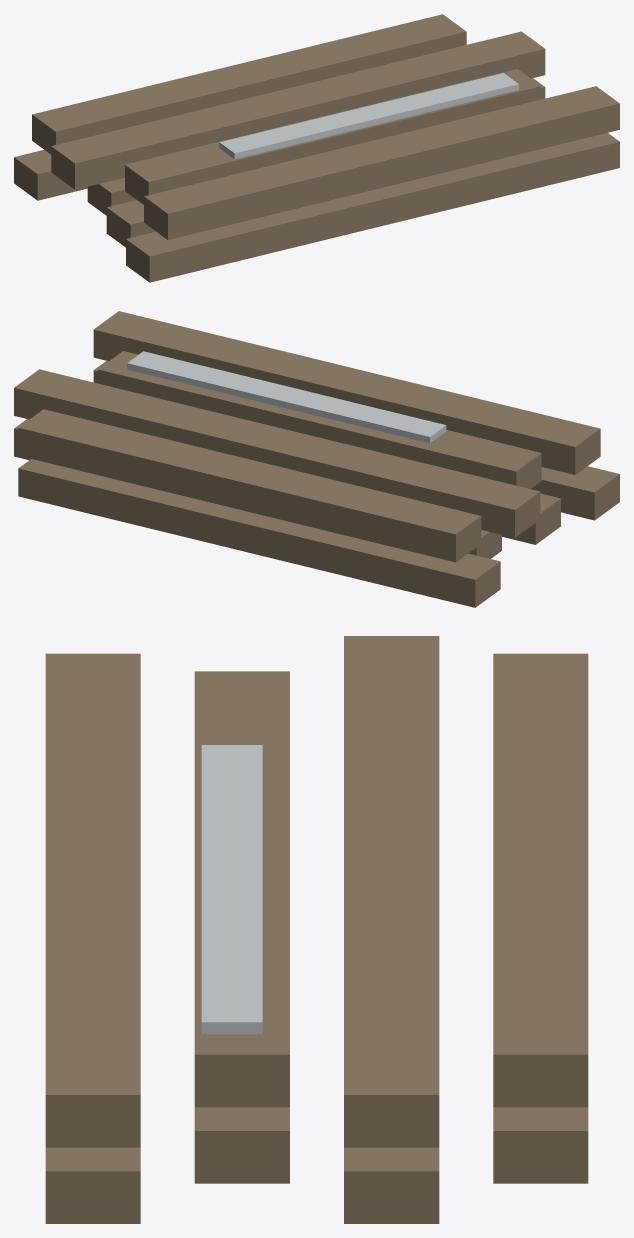
Rendered from repair_lumber.glb.
3 renders of one model, top to bottom at view 1: azimuth 30°, elevation 25°; view 2: azimuth 150°, elevation 25°; view 3: azimuth 270°, elevation 25°, orthographic. The views are drawn at different scales.
Parts seen in each view (by area): view 1: repair_lumber; view 2: repair_lumber; view 3: repair_lumber.
Boxes of the visible parts, bbox=[...] form: repair_lumber: bbox=[14, 14, 619, 282]; repair_lumber: bbox=[14, 311, 619, 607]; repair_lumber: bbox=[45, 636, 588, 1223].
Size of the model in its own units: 3.84 by 0.55 by 1.92.
